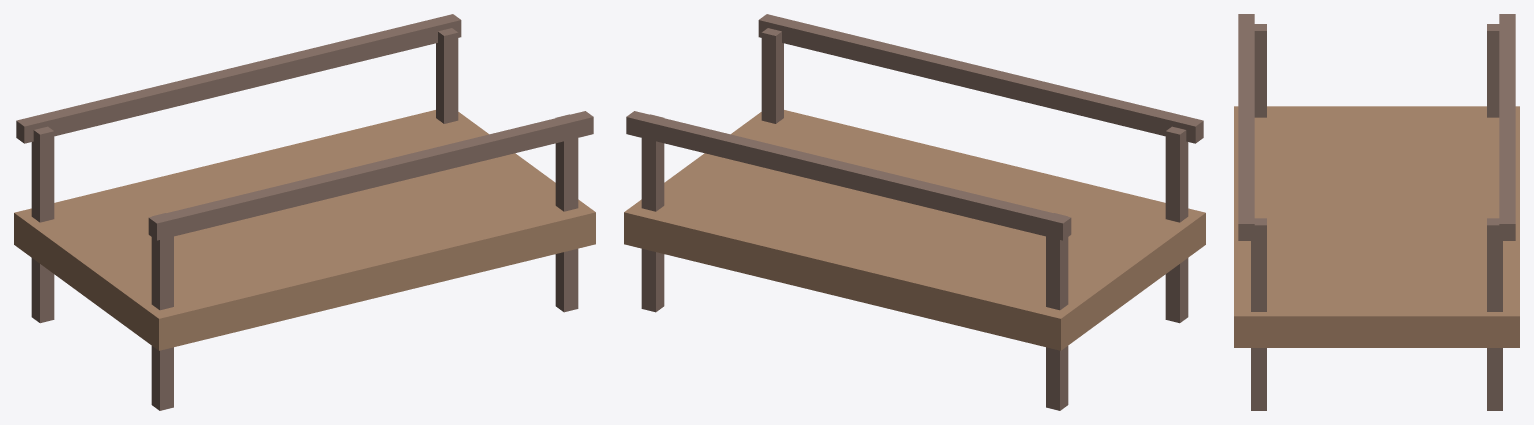
The model's file is wood_footbridge_4m.glb.
3 views of the same model, side by side, from view 1: azimuth 30°, elevation 25°; view 2: azimuth 150°, elevation 25°; view 3: azimuth 270°, elevation 25° (orthographic).
Visible parts, largest first — view 1: wood, wood_dark; view 2: wood, wood_dark; view 3: wood, wood_dark.
Boxes of the visible parts, <box> form: wood: <box>14,110,595,350</box>; wood_dark: <box>16,14,593,410</box>; wood: <box>624,110,1205,350</box>; wood_dark: <box>626,14,1203,410</box>; wood: <box>1234,106,1519,347</box>; wood_dark: <box>1238,14,1515,410</box>.
Bounding box in the file's own units: 4 × 1.7 × 2.3.
